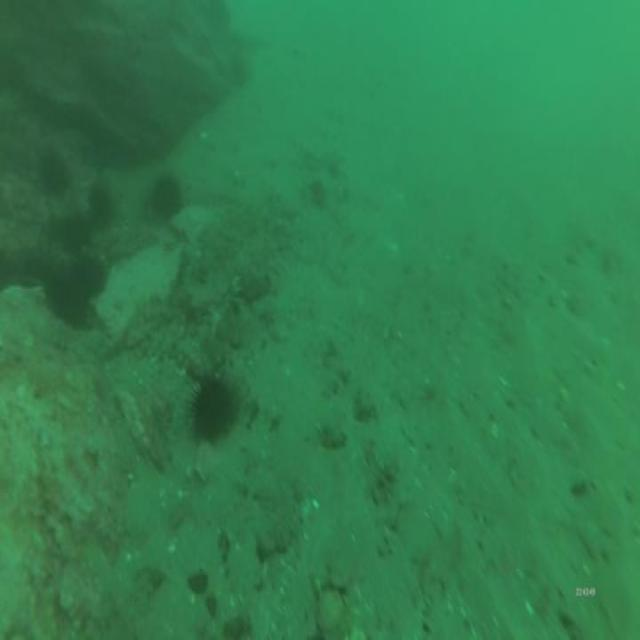echinus: (185, 370, 236, 447), (145, 169, 186, 224), (72, 253, 110, 302), (36, 144, 70, 197), (84, 180, 114, 224)
holothurian: (231, 218, 285, 303), (252, 474, 302, 563)
